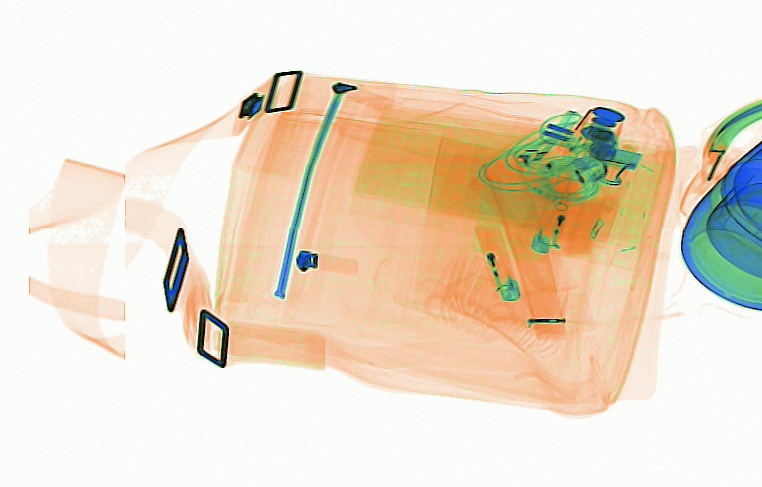lighter: (471, 217, 521, 301), (529, 177, 572, 255)
